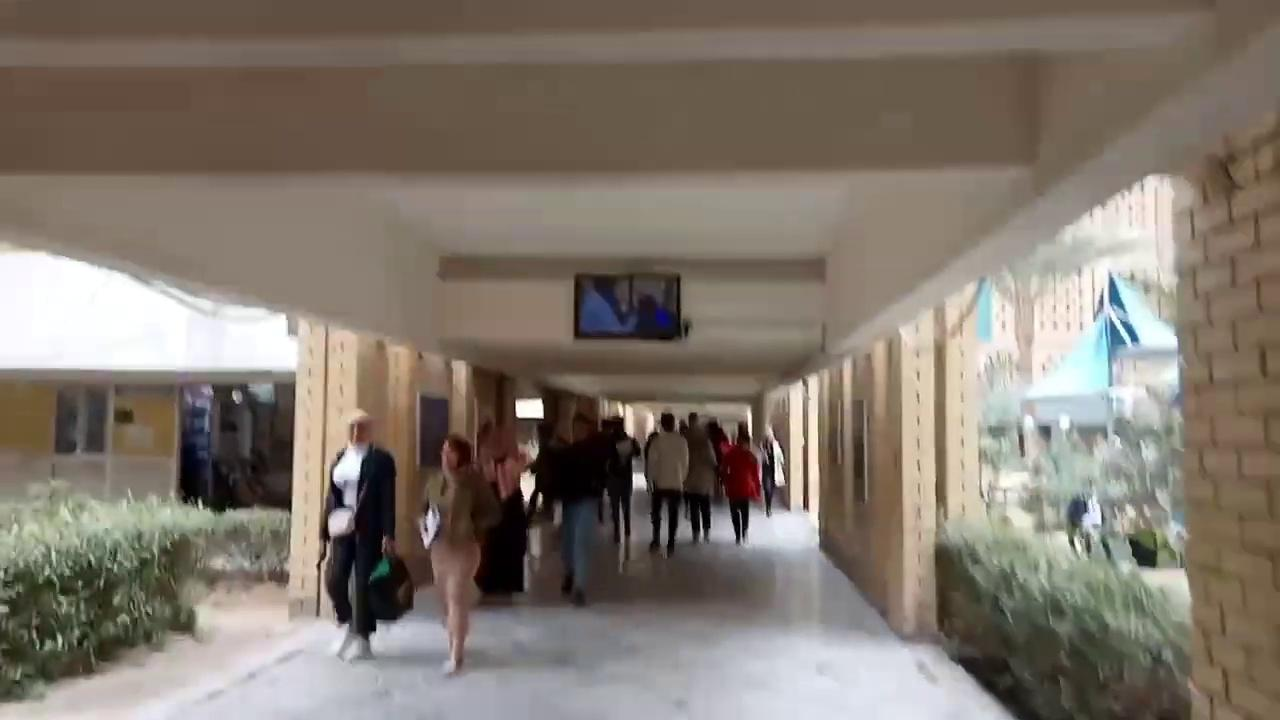person: (415, 432, 502, 675), (318, 407, 396, 662)
tree: (0, 469, 289, 702), (933, 511, 1192, 718)
